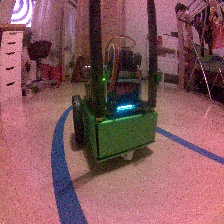rob: (70, 44, 157, 163)
